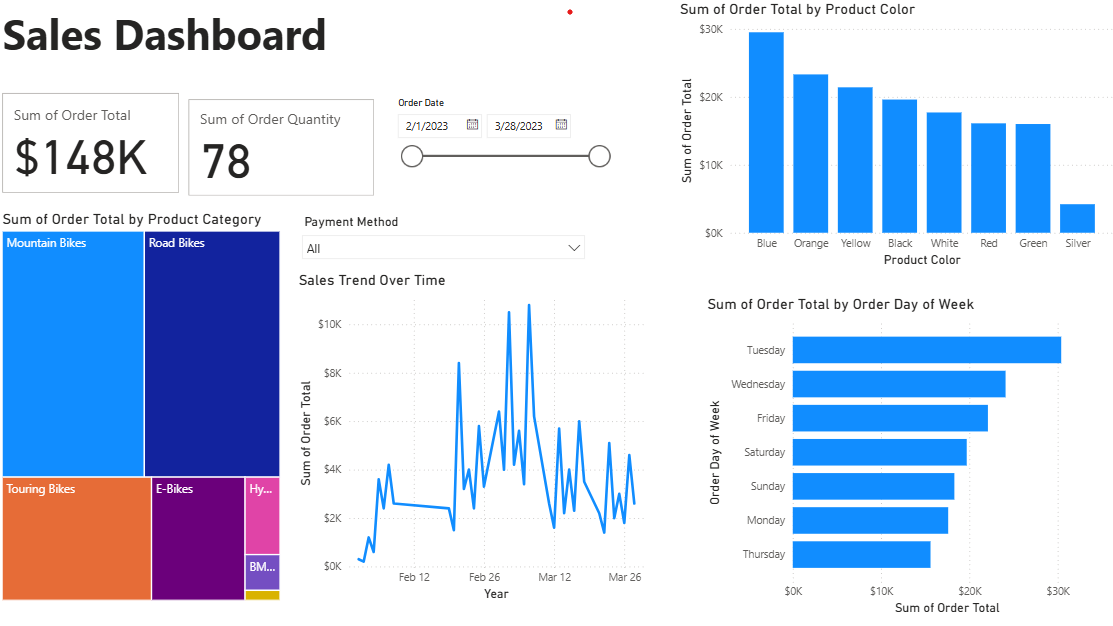

What the dashboard file says about the page in this screenshot:
{"tool":"powerbi","page":{"name":"Adventure works Dashboard","canvas":[1280,720],"ordinal":0},"visuals":[{"type":"barChart","fields":{"Y":["Sum(Sales.Order Total)"],"Category":["Sales.Order Day of Week"]},"box":[805,337.5,475,371.2],"z":0},{"type":"slicer","fields":{"Values":["Sales.Order Date"]},"box":[443.8,106.2,263.8,120],"z":2000},{"type":"columnChart","fields":{"Category":["Sales.Product Color"],"Y":["Sum(Sales.Order Total)"]},"box":[774.3,0,505.7,310],"z":3000},{"type":"slicer","fields":{"Values":["Sales.Payment Method"]},"box":[337.5,240,343.8,70],"z":4000},{"type":"cardVisual","fields":{"Data":["Sum(Sales.Order Total)"]},"box":[0,101.4,212.9,124.3],"z":5000},{"type":"cardVisual","fields":{"Data":["Sum(Sales.Order Quantity)"]},"box":[212.5,108.8,222.5,120],"z":6000},{"type":"treemap","fields":{"Group":["Sales.Product Category"],"Values":["Sum(Sales.Order Total)"]},"box":[0,240,327.5,451.2],"z":7000},{"type":"textbox","box":[0,0,712.5,93.8],"z":8001},{"type":"lineChart","title":"Sales Trend Over Time","fields":{"Y":["Sum(Sales.Order Total)"],"Category":["Sales.Order Date.Variation.Date Hierarchy.Year","Sales.Order Date.Variation.Date Hierarchy.Quarter","Sales.Order Date.Variation.Date Hierarchy.Month","Sales.Order Date.Variation.Date Hierarchy.Day"]},"box":[338.6,310,412.9,381.4],"z":8002}]}

Visuals, with their boxes in screenshot pixels (x1, y1, x2, y2), scaled from the page's 1280x720 canvas onto the 1113x626 screenshot:
barChart - Sum(Sales.Order Total) x Sales.Order Day of Week: [left=700, top=293, right=1112, bottom=616]
slicer - Sales.Order Date: [left=386, top=92, right=615, bottom=197]
columnChart - Sales.Product Color x Sum(Sales.Order Total): [left=673, top=0, right=1112, bottom=270]
slicer - Sales.Payment Method: [left=293, top=209, right=592, bottom=270]
cardVisual - Sum(Sales.Order Total): [left=0, top=88, right=185, bottom=196]
cardVisual - Sum(Sales.Order Quantity): [left=185, top=95, right=378, bottom=199]
treemap - Sales.Product Category x Sum(Sales.Order Total): [left=0, top=209, right=285, bottom=601]
textbox: [left=0, top=0, right=620, bottom=82]
"Sales Trend Over Time" lineChart: [left=294, top=270, right=653, bottom=601]
